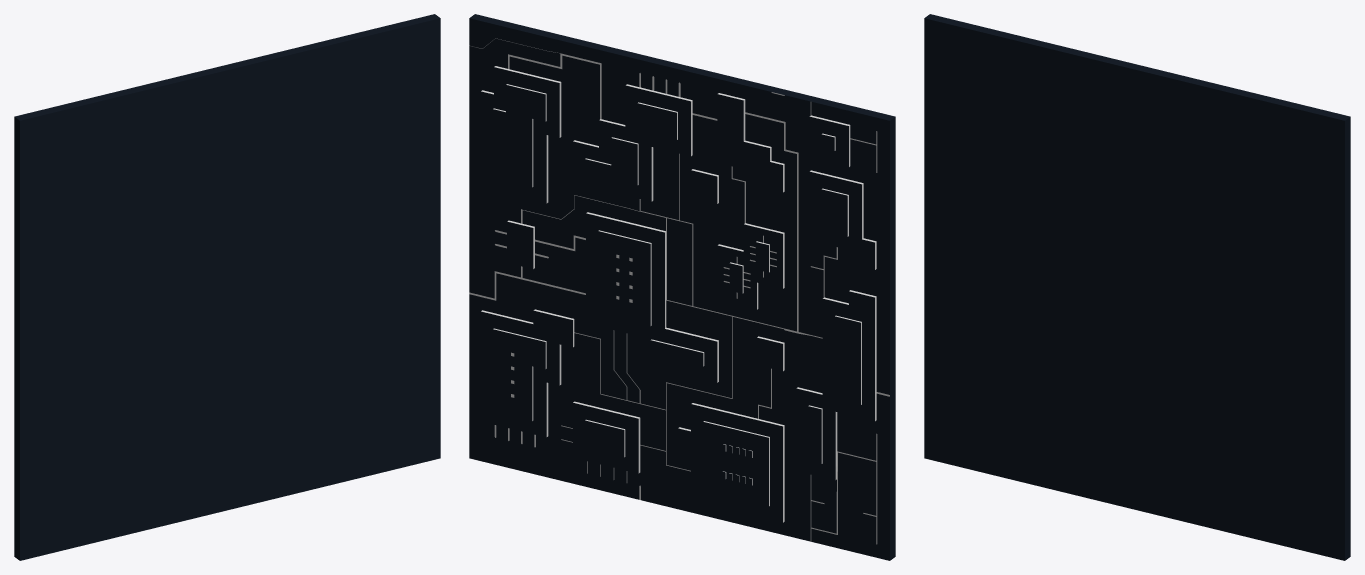
File: plat prueba 3.fbx
3 renders of one model, left to right at view 1: azimuth 30°, elevation 25°; view 2: azimuth 150°, elevation 25°; view 3: azimuth 330°, elevation 25°, orthographic.
Parts seen in each view (by area): view 1: wall definitive; view 2: wall definitive; view 3: wall definitive.
Boxes of the visible parts, x1,y1,x2,y2 form: wall definitive: (14,14,440,560); wall definitive: (469,14,895,560); wall definitive: (924,14,1350,560).
Size of the model in its own units: 8420 by 8420 by 307.
